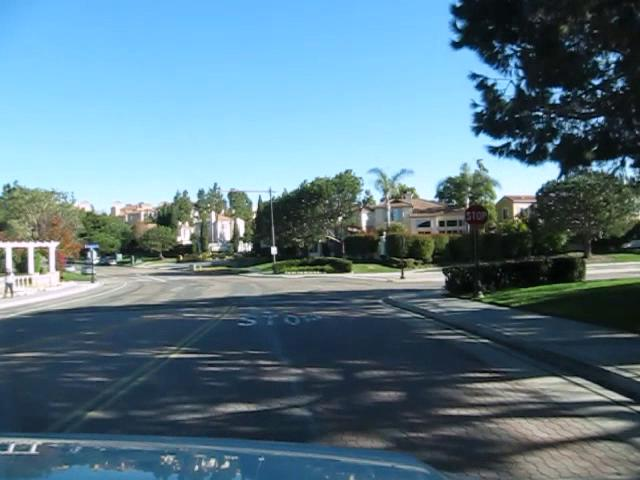stop: (463, 202, 489, 230)
